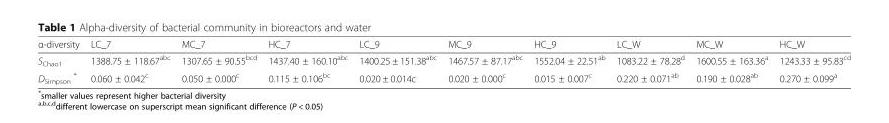table: (38, 37, 850, 84)
table column: (85, 37, 176, 84), (262, 37, 353, 84), (353, 37, 442, 84), (176, 37, 262, 84), (442, 37, 528, 84), (690, 37, 774, 84), (528, 37, 611, 84), (611, 37, 690, 84), (774, 37, 850, 84), (38, 37, 85, 84)
table column header: (38, 37, 850, 51)
table row: (38, 51, 850, 68), (38, 68, 850, 84), (38, 37, 850, 51)
